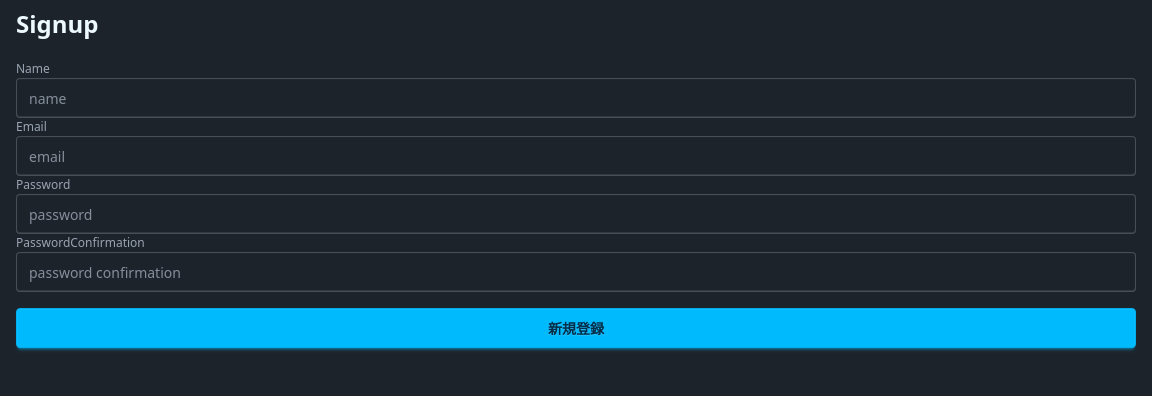
Scenario: SignupForm.tsx › onSubmit › 認証失敗時、エラーがUI表示
Type "test" into the field with test id "signup-name-input" at (576, 98), box [16,78,1136,118]
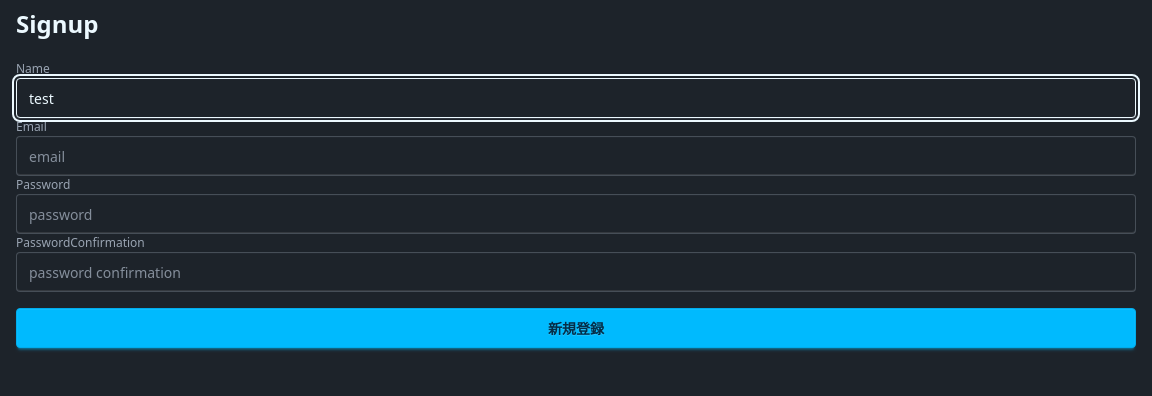
Type "test@email.com" into the field with test id "signup-email-input" at (576, 156), box [16,136,1136,176]
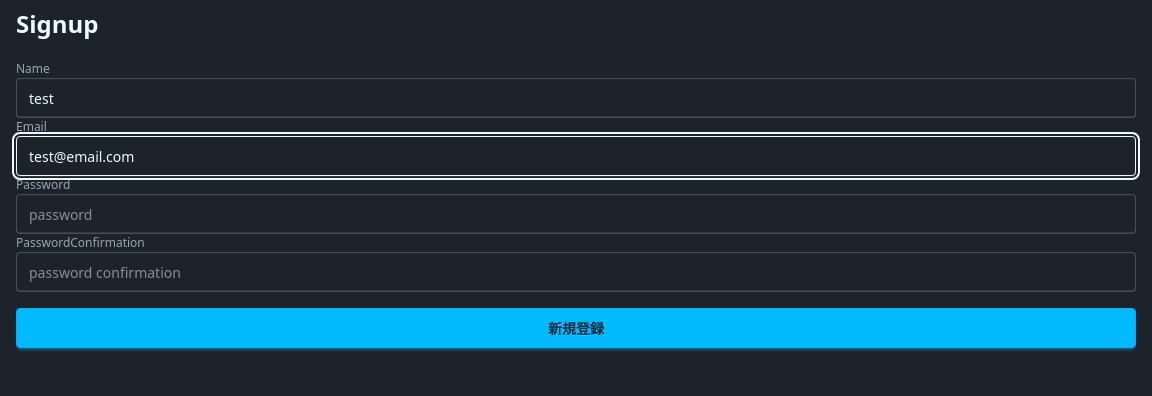
Type "password" into the password field with test id "signup-password-input" at (576, 214), box [16,194,1136,234]
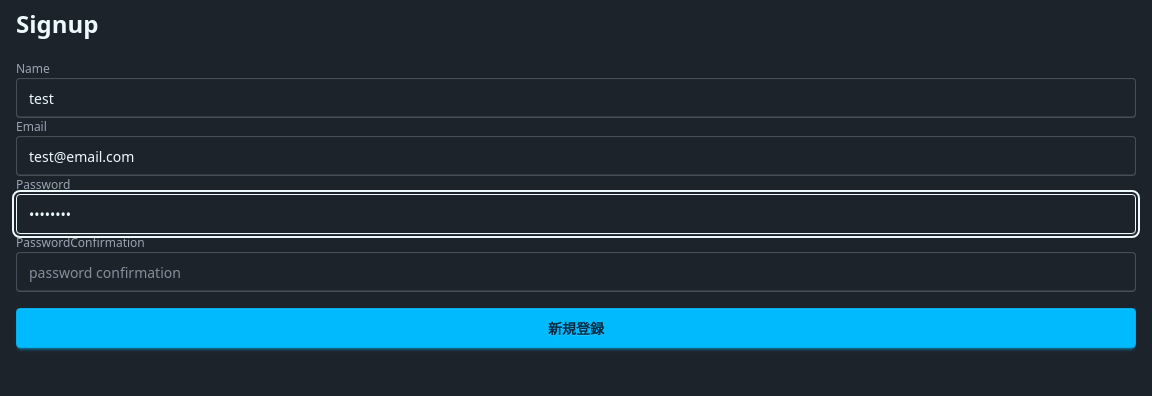
Type "password" into the password field with test id "signup-password-confirmation-input" at (576, 272), box [16,252,1136,292]
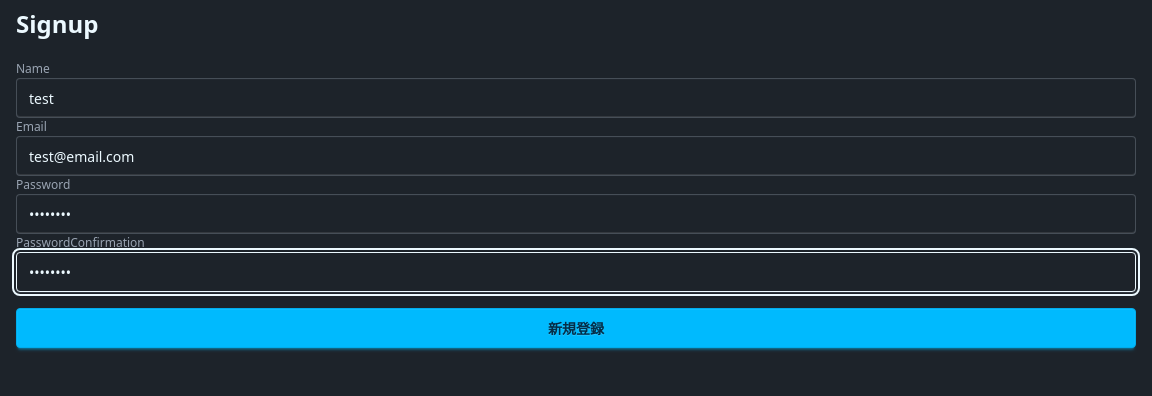
Click the button "新規登録" at (576, 328), box [16,308,1136,348]
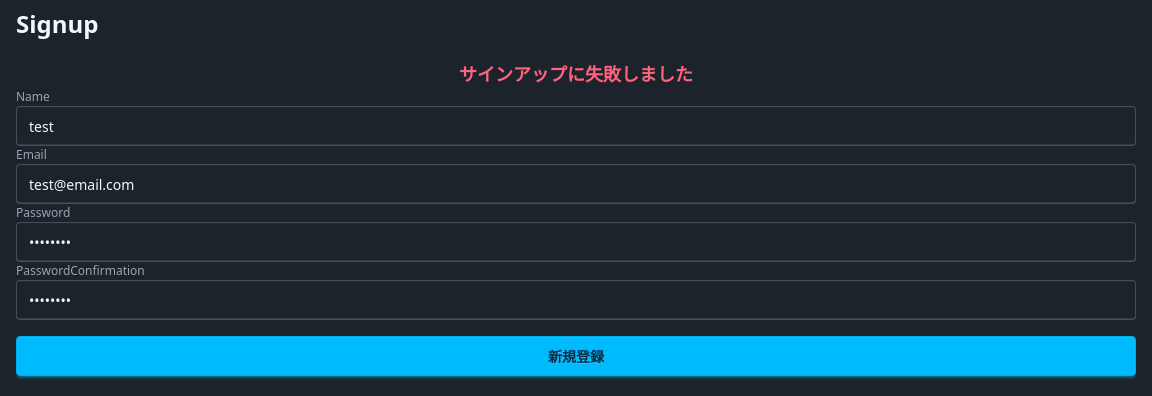
Check: the text "サインアップに失敗しました" is shown, box [459,62,693,86]
